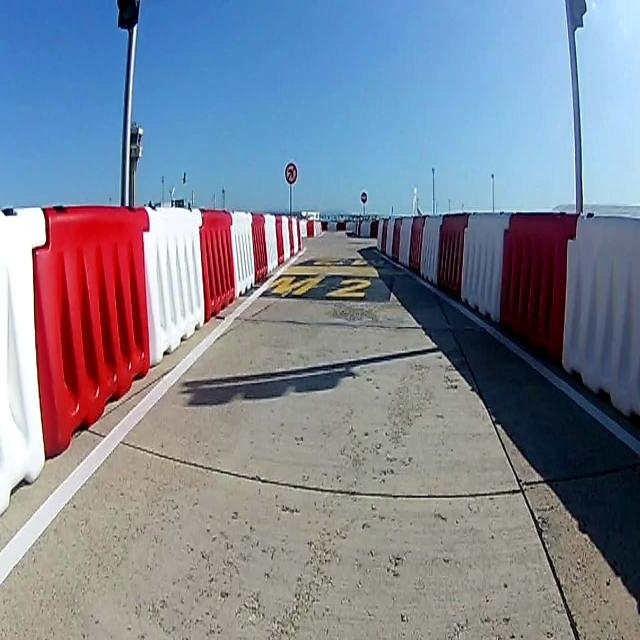soladonulmez: (284, 162, 298, 186)
